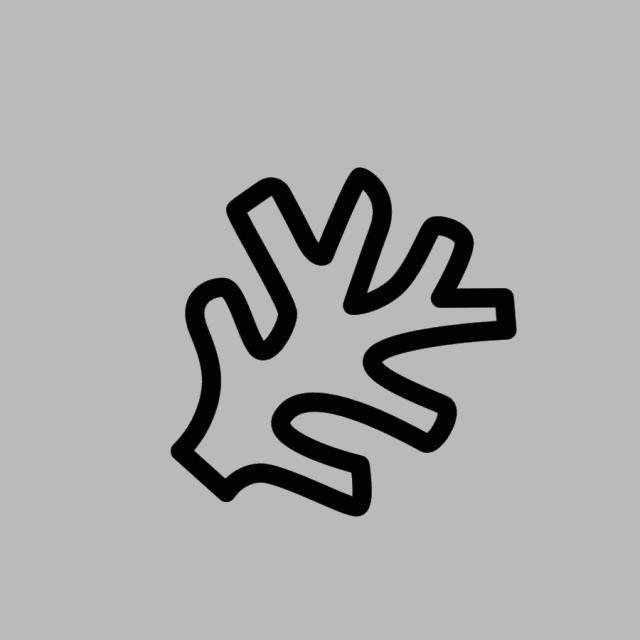coral: (163, 163, 526, 527)
